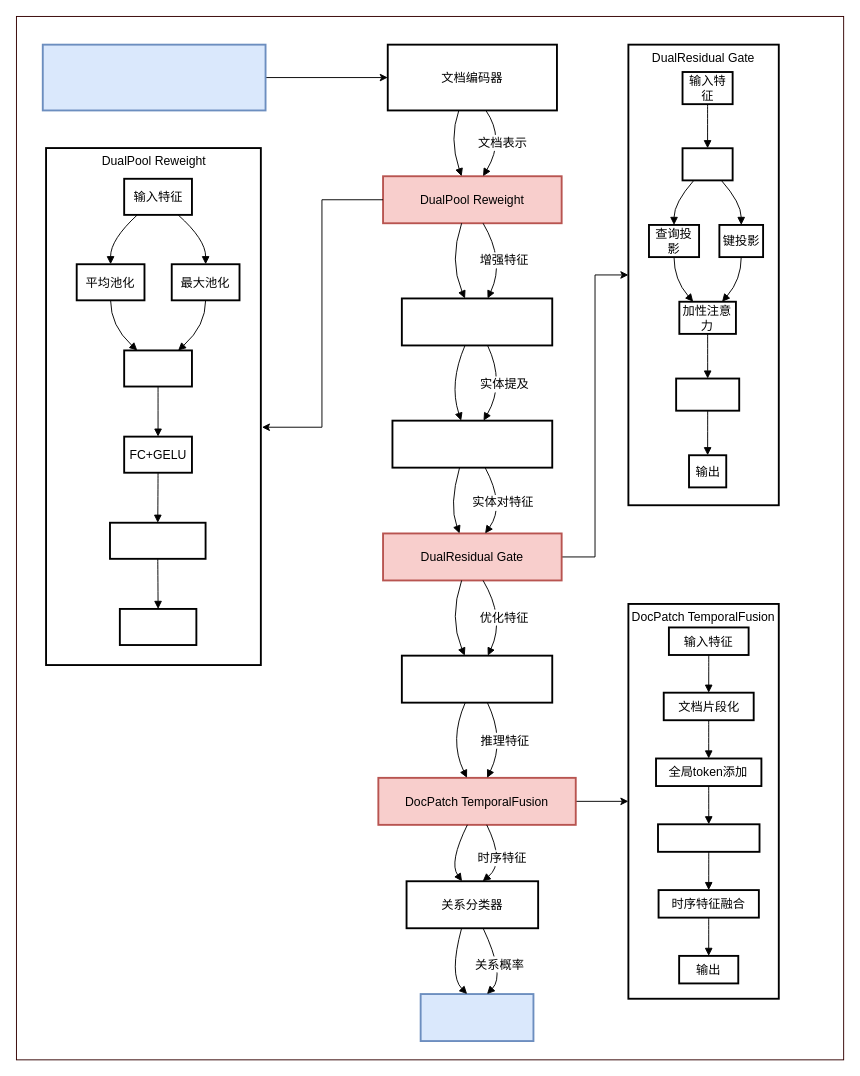
Some shapes in this 860 by 1076 pixel diagram are drawn without their labels. The shapes that lost their labels are listed below. From the top down, each one's centre as x and y in pixels, then its label:
[153,77]: 输入文档
[707,164]: 层归一化
[476,321]: 实体提及提取
[157,368]: 特征拼接
[707,394]: 双重残差融合
[472,443]: 实体对特征构建
[157,540]: FC+Hardsigmoid
[157,626]: 特征重加权
[476,678]: 多元推理路径
[708,837]: PatchTST编码
[476,1017]: 关系预测
